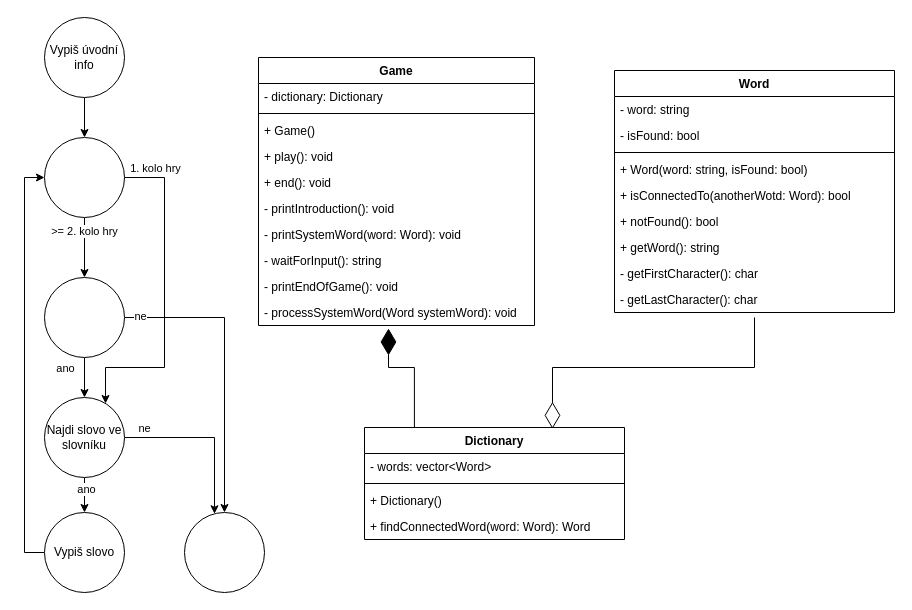
The diagram is 912 pixels wide and 610 high, and some of its shapes have lost their labels. The shapes that lost their labels are listed below. From the top down, each one's centre as x and y in pixels, then its label:
At [84,177]: "Načti vstup od uživatele".
At [84,317]: "Kontroluj, zda vstup navazuje na systém".
At [224,552]: "Konec hry, systém prohrál".
